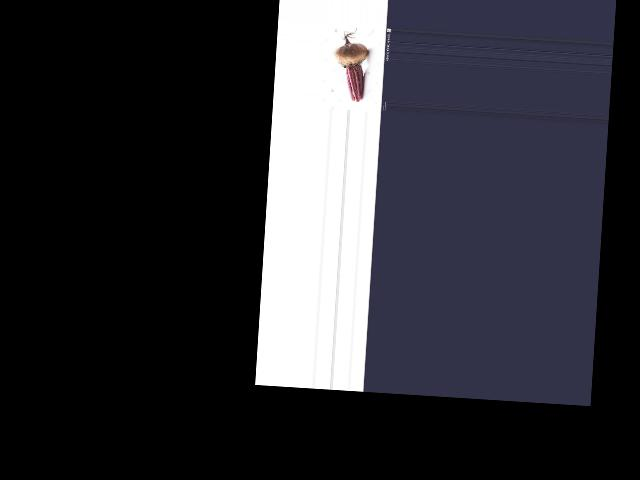beet: (332, 27, 369, 102)
